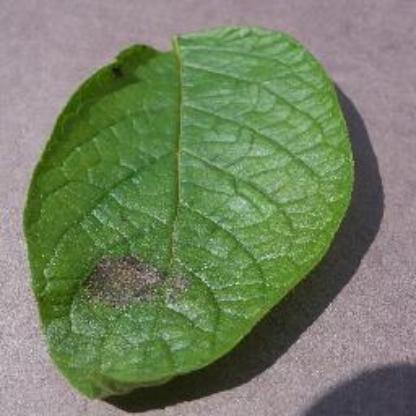Late-Blight: (17, 14, 416, 408)
